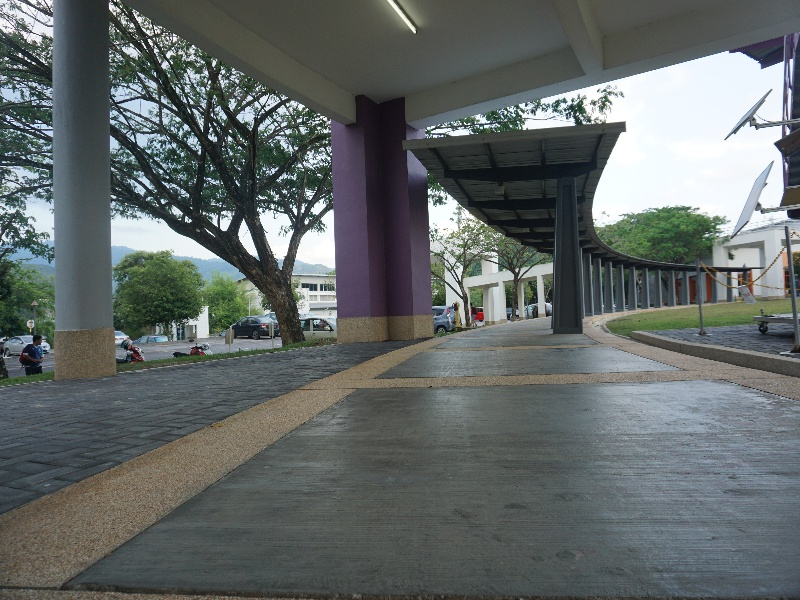Block D Pillar 6: (4, 6, 800, 495)
pillar: (34, 1, 133, 384), (321, 80, 442, 344), (546, 168, 592, 341)
